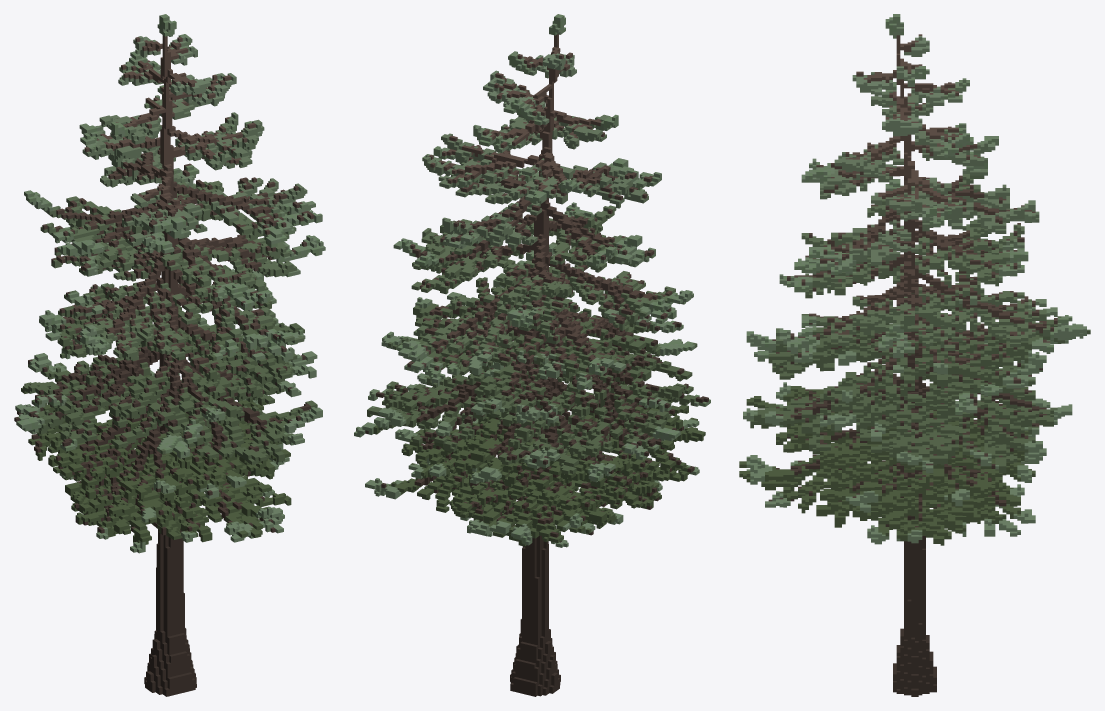
File: 1_voxtree.obj
The picture shows the model from 3 angles, left to right: view 1: azimuth 30°, elevation 25°; view 2: azimuth 150°, elevation 25°; view 3: azimuth 270°, elevation 25°; orthographic projection. The views are drawn at different scales.
Parts seen in each view (by area): view 1: blender_trunk; view 2: blender_trunk; view 3: blender_trunk.
Boxes of the visible parts, x1=… form: blender_trunk: x1=14, y1=14, x2=325, y2=696; blender_trunk: x1=354, y1=14, x2=710, y2=696; blender_trunk: x1=739, y1=14, x2=1090, y2=696.
Bounding box in the file's own units: 9 × 20 × 9.6.
Materials: 1 (1 with a texture image).
